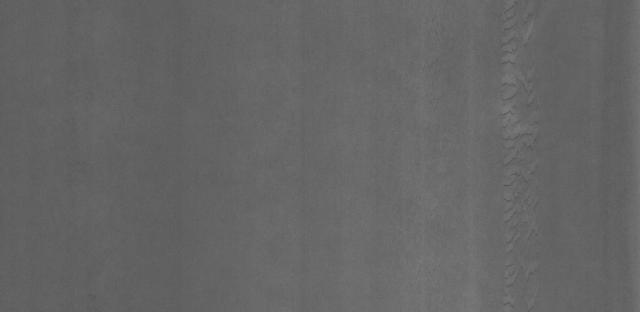silk_spot: (487, 15, 551, 294)
